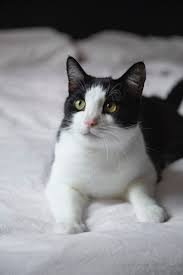cat: (40, 49, 181, 223)
